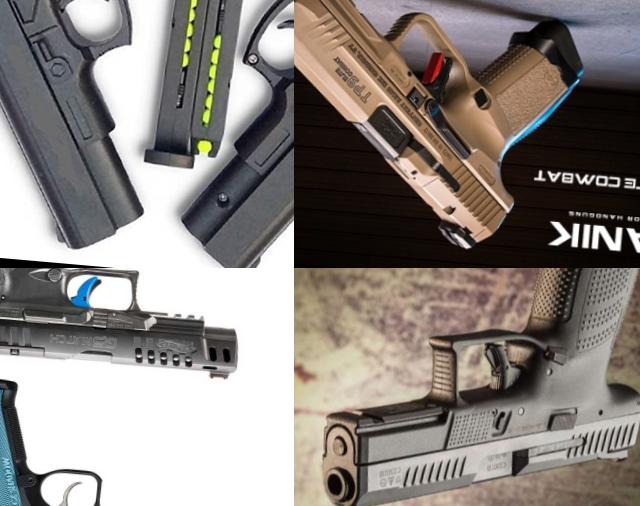handgun: (308, 268, 640, 506), (294, 0, 593, 260), (0, 0, 196, 258), (168, 0, 294, 268), (0, 268, 254, 389), (0, 369, 219, 506)
